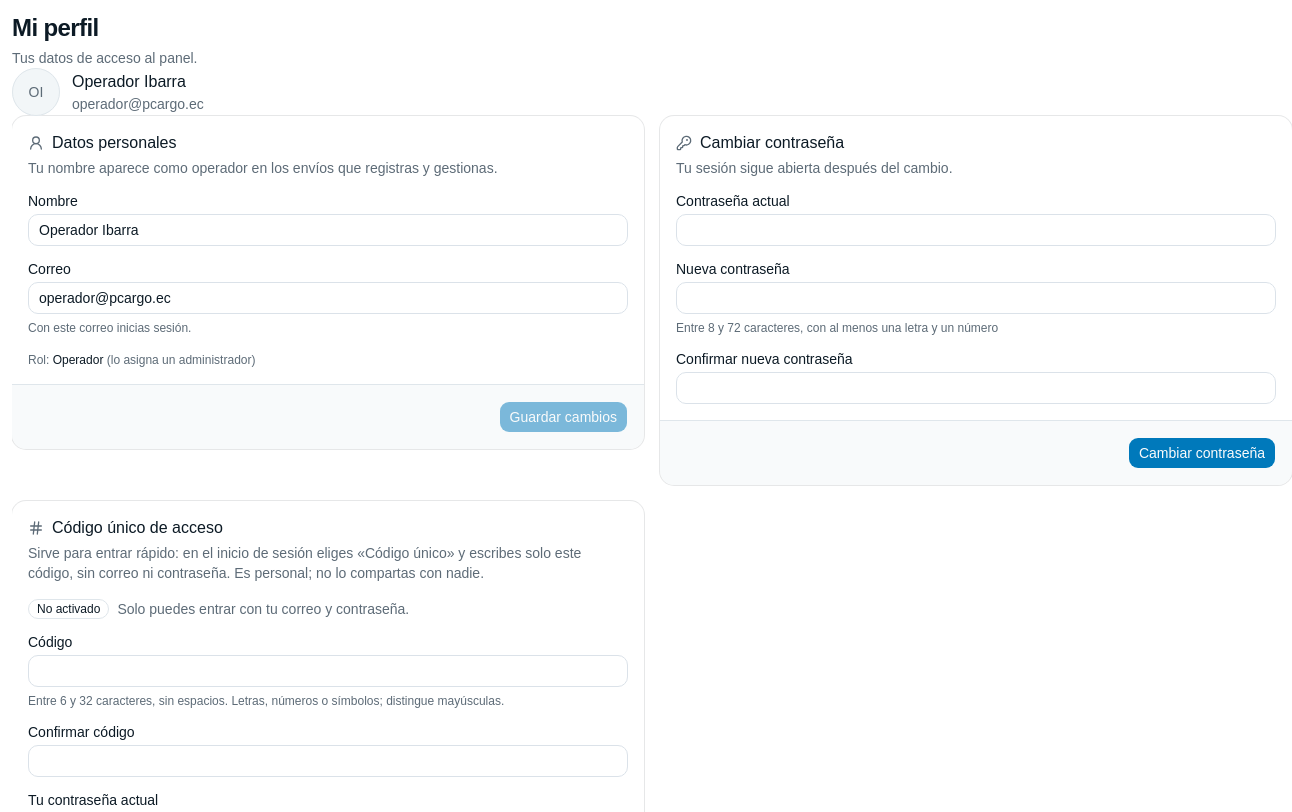
Scenario: PerfilPage — datos personales › valida el correo antes de enviarlo
Expected: the heading "Mi perfil" is shown, [12,14,99,41]
Replace the text in the field labelled "Correo" with "no-es-correo" at (328, 298), box [28,282,628,314]
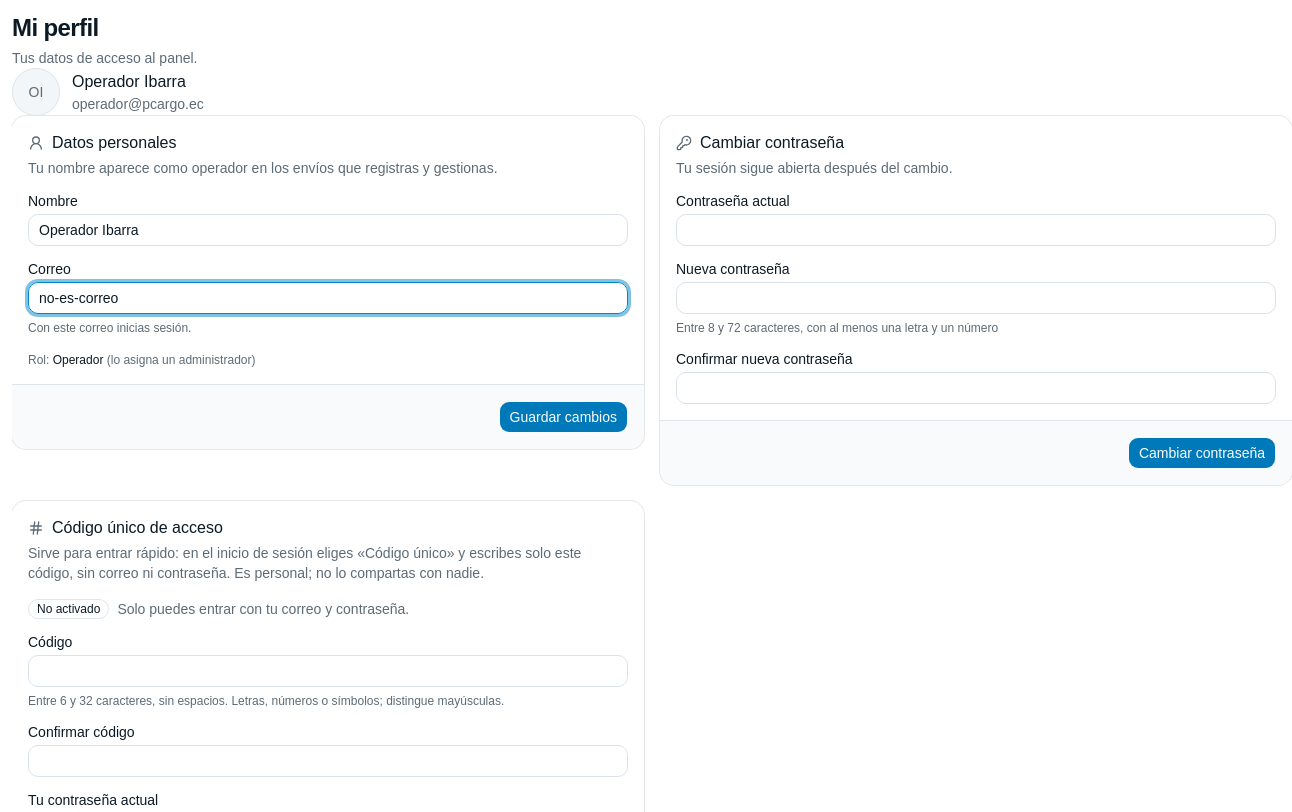
Click the button "Guardar cambios" at (563, 417), box [499,401,628,433]
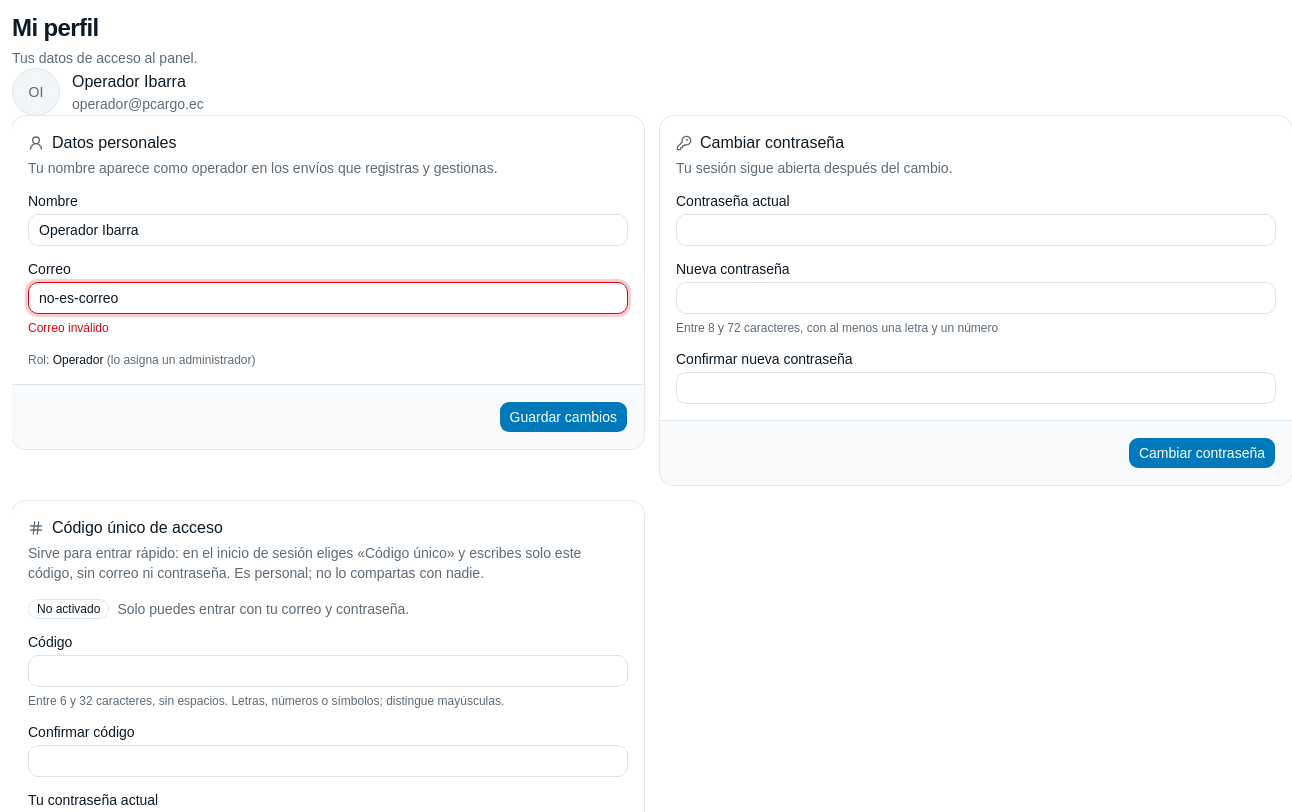
Now the text "Correo inválido" is shown, box [28,321,109,335]
